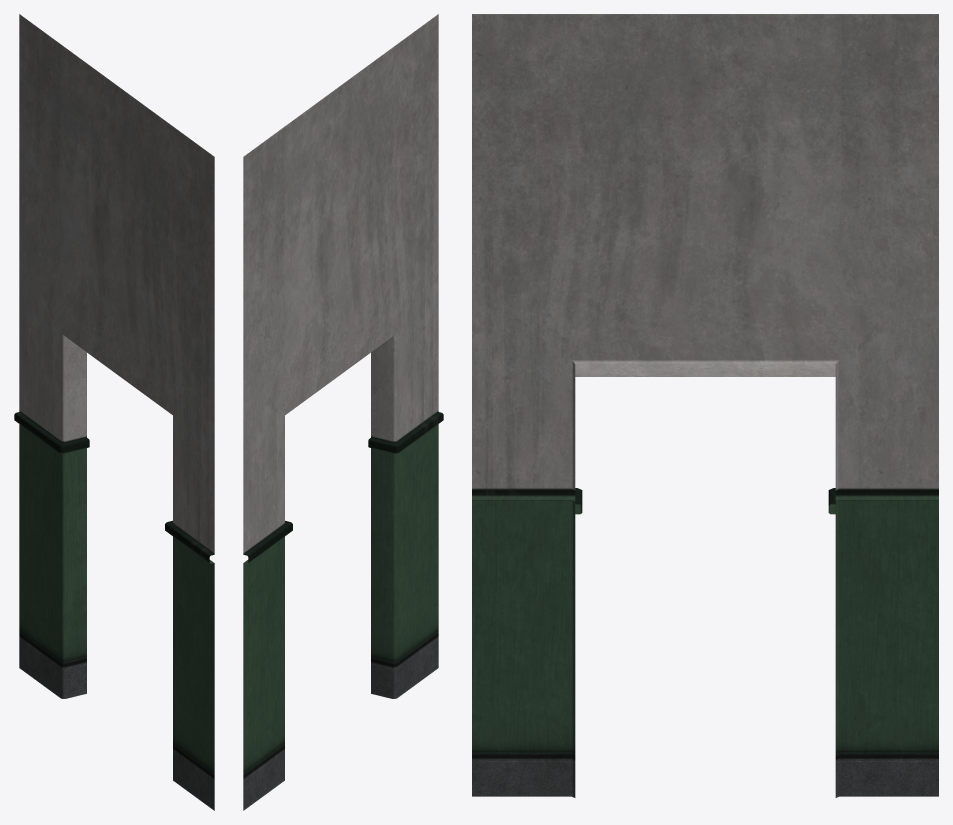
File: Psychiatric_Ward_Infirmary_Wall_2m_Door.glb
3 views of the same model, side by side, from view 1: azimuth 30°, elevation 25°; view 2: azimuth 150°, elevation 25°; view 3: azimuth 270°, elevation 25° (orthographic). The views are drawn at different scales.
Parts seen in each view (by area): view 1: Psychiatric_Ward_Infirmary_Wall_2m_Door; view 2: Psychiatric_Ward_Infirmary_Wall_2m_Door; view 3: Psychiatric_Ward_Infirmary_Wall_2m_Door.
Boxes of the visible parts, x1,y1,x2,y2 form: Psychiatric_Ward_Infirmary_Wall_2m_Door: (14,14,214,810); Psychiatric_Ward_Infirmary_Wall_2m_Door: (243,14,443,810); Psychiatric_Ward_Infirmary_Wall_2m_Door: (472,14,938,797).
Size of the model in its own units: 0.1737 by 3.7 by 2.
Materials: 1 (1 with a texture image).
